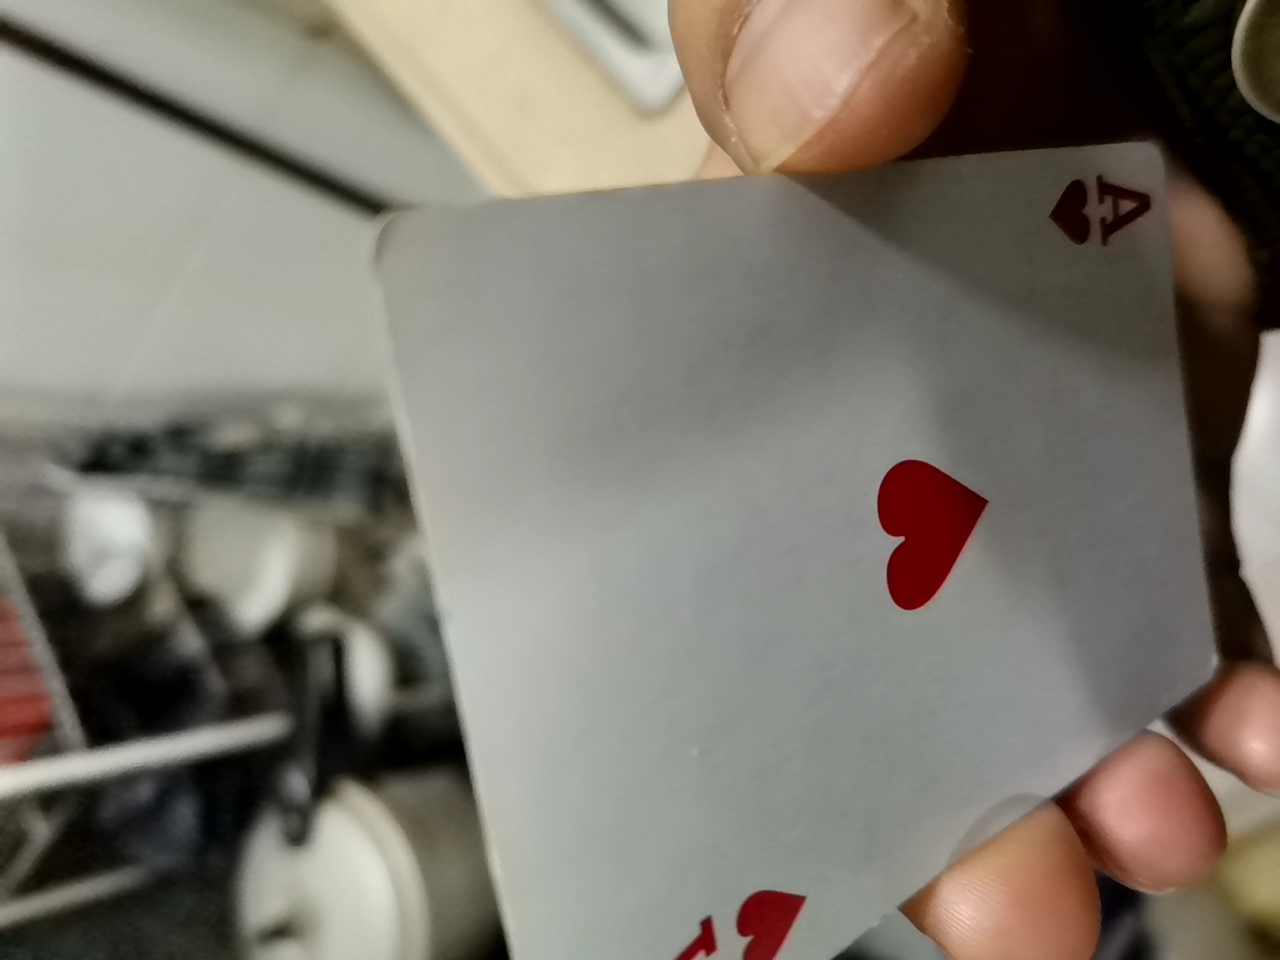hx a: (324, 167, 1229, 957)
